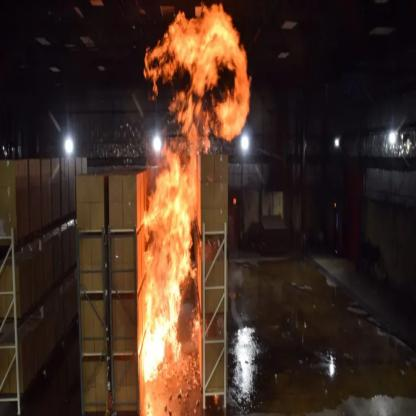fire: (135, 9, 260, 388)
